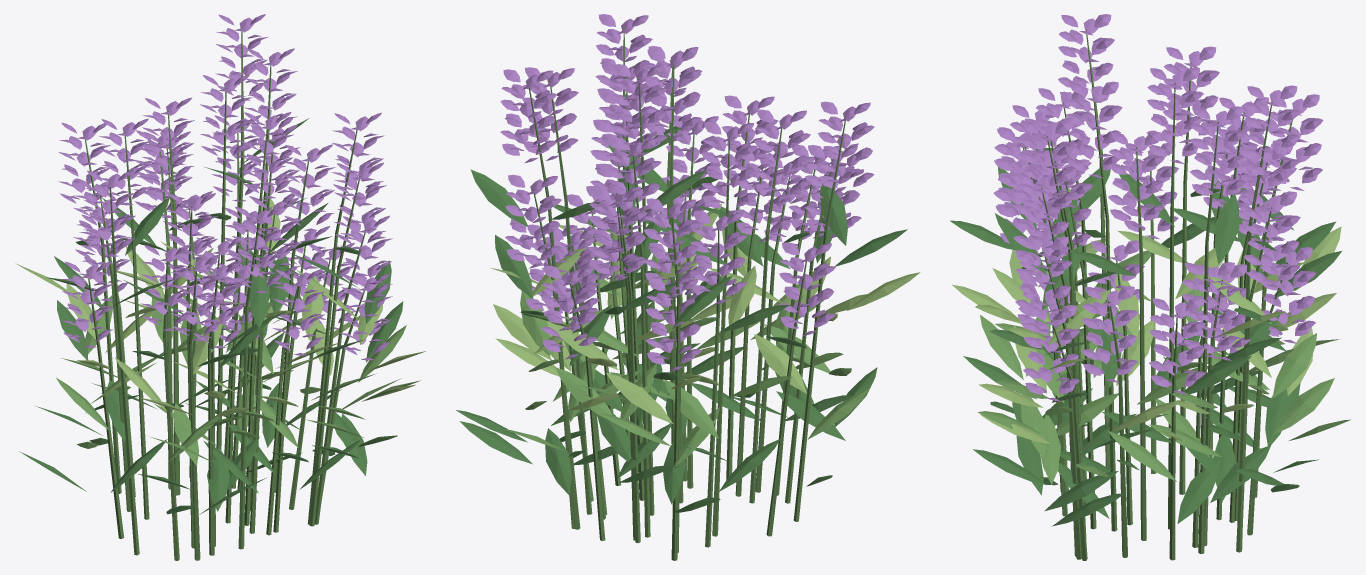
Rendered from lavender-clump.glb.
3 views of the same model, side by side, from view 1: azimuth 30°, elevation 25°; view 2: azimuth 150°, elevation 25°; view 3: azimuth 270°, elevation 25° (orthographic). The views are drawn at different scales.
Visible parts, largest first — view 1: lavender-clump; view 2: lavender-clump; view 3: lavender-clump.
Part boxes in pixels (<box>): lavender-clump: <box>15,14,425,560</box>; lavender-clump: <box>456,14,920,560</box>; lavender-clump: <box>950,14,1350,560</box>.
Bounding box in the file's own units: 0.55 × 0.65 × 0.5.
